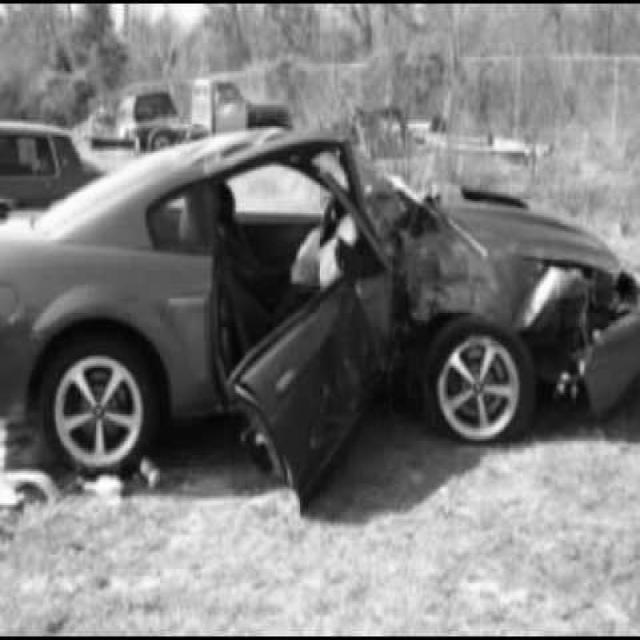crush: (178, 125, 640, 511)
